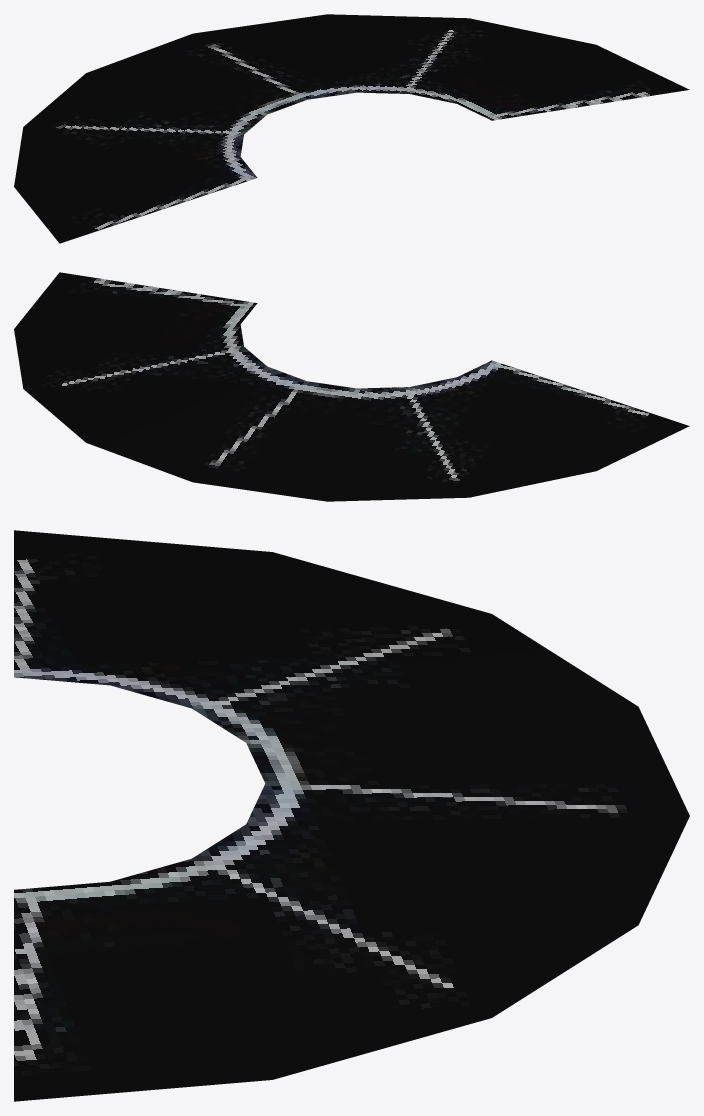
Rendered from BasePlateHalf.glb.
The picture shows the model from 3 angles, top to bottom: view 1: azimuth 30°, elevation 25°; view 2: azimuth 150°, elevation 25°; view 3: azimuth 270°, elevation 25°; orthographic projection. The views are drawn at different scales.
Parts seen in each view (by area): view 1: HalfBasePlate; view 2: HalfBasePlate; view 3: HalfBasePlate.
Part boxes in pixels (x1,y1,x2,y2): HalfBasePlate: (14, 14, 689, 243); HalfBasePlate: (14, 272, 689, 501); HalfBasePlate: (14, 530, 689, 1101).
Bounding box in the file's own units: 4.59 × 0.1213 × 2.29.
Materials: 1 (1 with a texture image).
